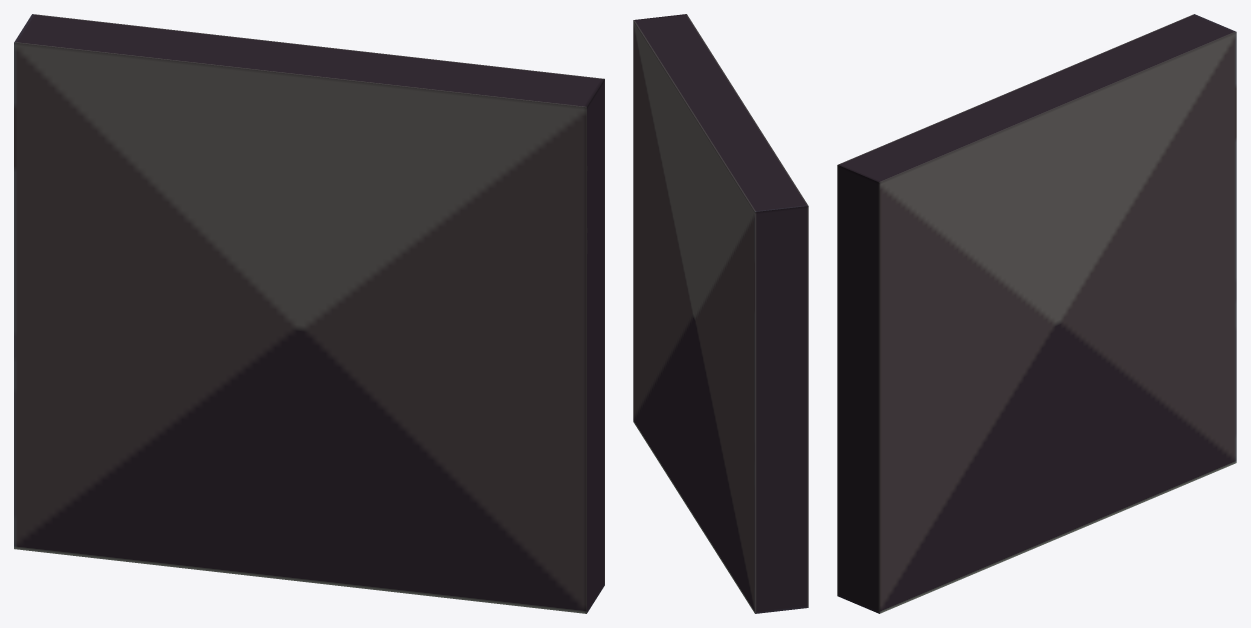
Rendered from tileWallOnlyDWided.fbx.
3 views of the same model, side by side, from view 1: azimuth 30°, elevation 25°; view 2: azimuth 150°, elevation 25°; view 3: azimuth 270°, elevation 25° (orthographic). The views are drawn at different scales.
Parts seen in each view (by area): view 1: tileWallOnlyDWided; view 2: tileWallOnlyDWided; view 3: tileWallOnlyDWided.
Part boxes in pixels (<box>): tileWallOnlyDWided: <box>14,14,604,613</box>; tileWallOnlyDWided: <box>633,14,808,613</box>; tileWallOnlyDWided: <box>837,14,1236,613</box>.
Size of the model in its own units: 335 by 400 by 335.
